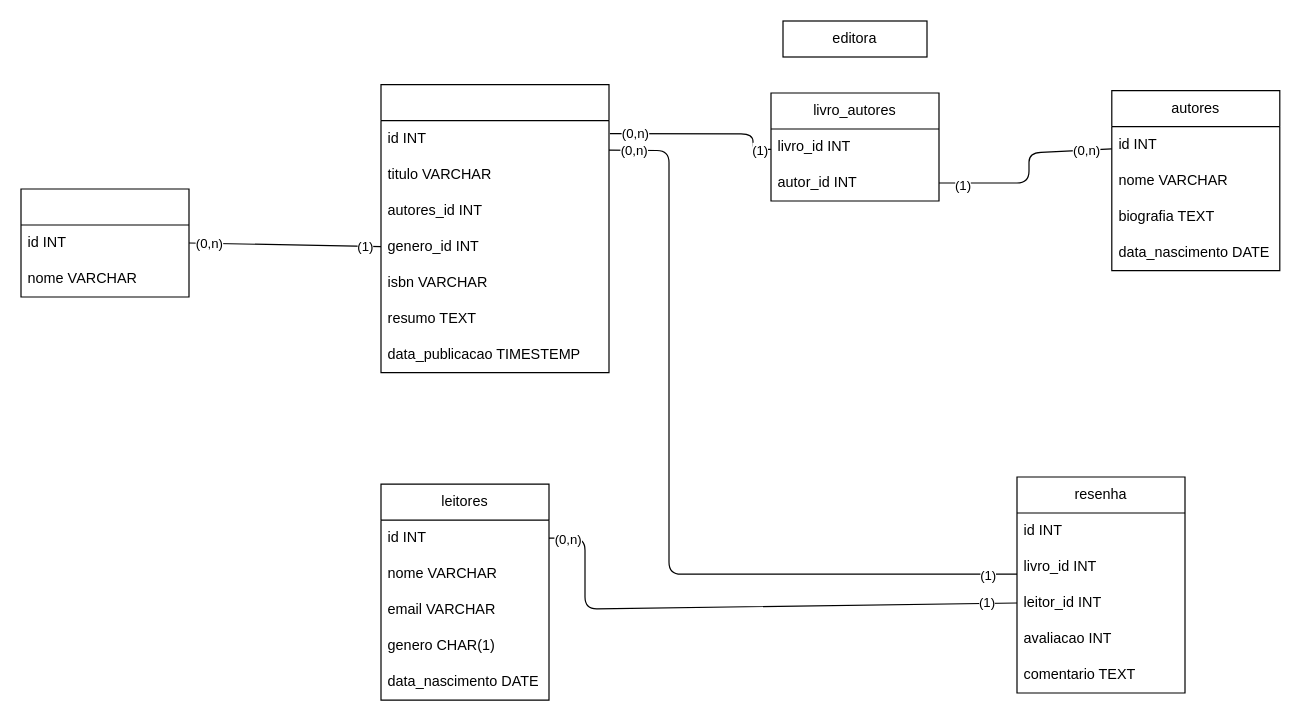
Image size: 1301x721. Some labels were removed from this diagram. The box of each missing label's shape, as (x1, y1, x2, y2) in pixels:
generos: (20, 188, 189, 297)
livros: (380, 83, 609, 373)
